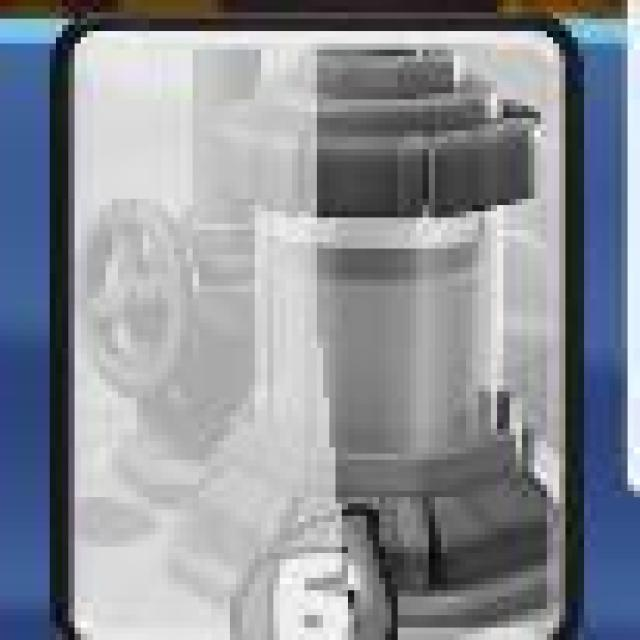Elixir_Pump: (52, 17, 582, 640)
